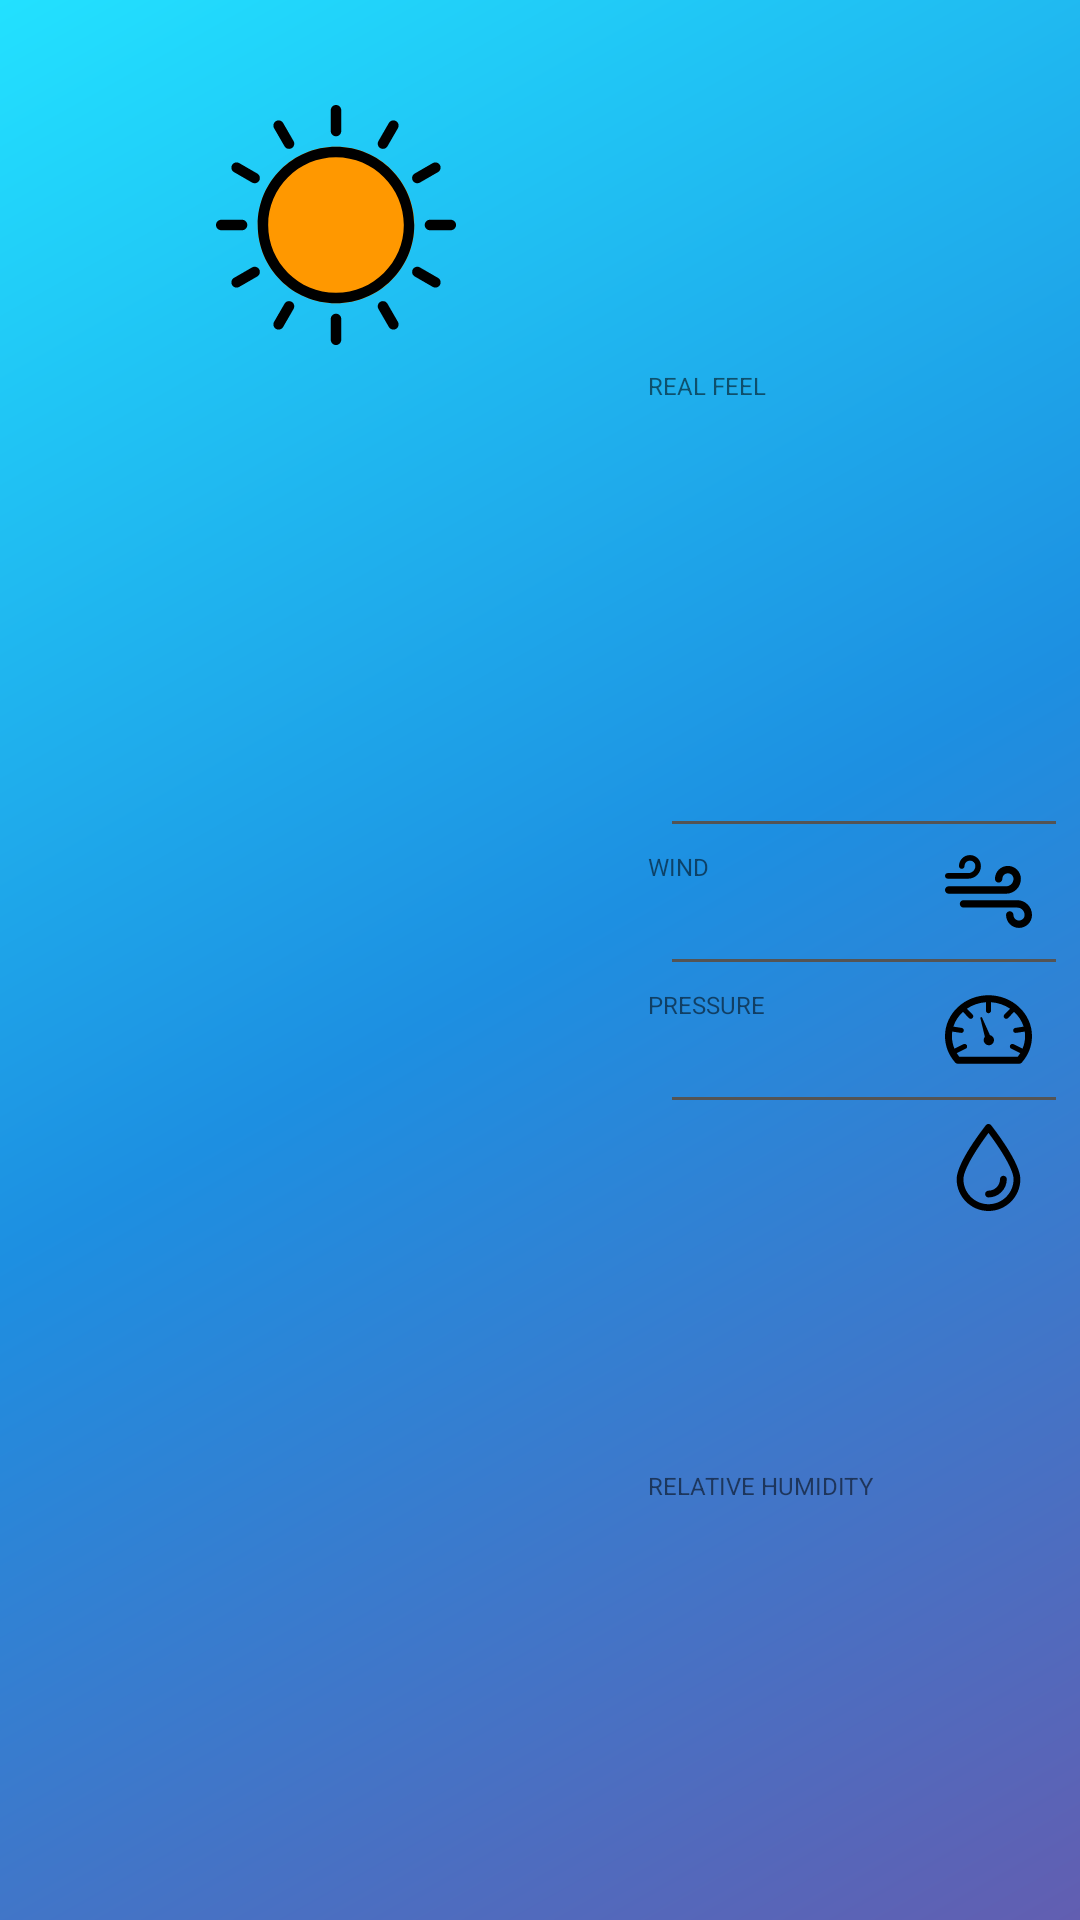

Named icons in this screenshot (1080×1920) and their bounding boxes, (x1=x1, y1=y1, x2=x2, y2=y2):
clear day: (x1=216, y1=105, x2=456, y2=345)
drop: (x1=956, y1=1124, x2=1021, y2=1211)
